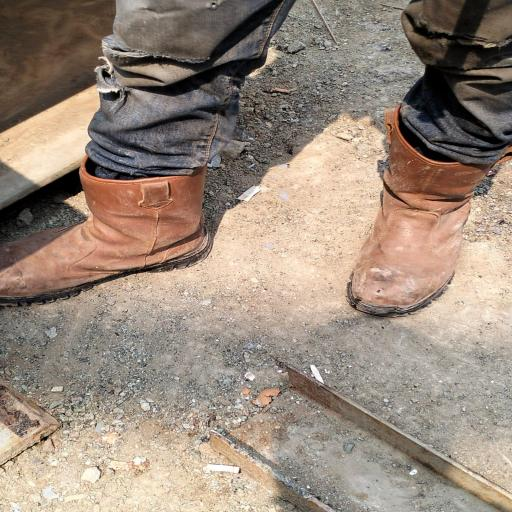safety_shoe: (350, 108, 512, 338), (0, 170, 214, 306)
